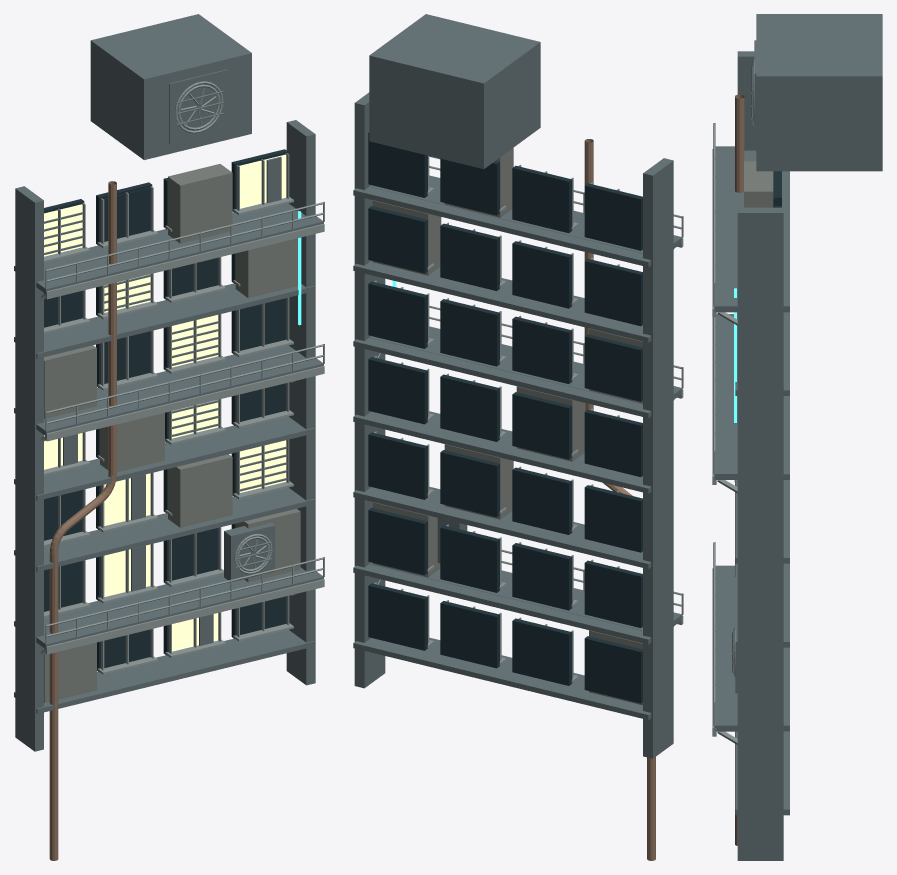
The model's file is tunnel-service-bay.glb.
The picture shows the model from 3 angles, left to right: view 1: azimuth 30°, elevation 25°; view 2: azimuth 150°, elevation 25°; view 3: azimuth 270°, elevation 25°; orthographic projection. The views are drawn at different scales.
Parts seen in each view (by area): view 1: tunnel-service-bay-TunnelArmor, tunnel-service-bay-TunnelEdge, tunnel-service-bay-TunnelConcrete, tunnel-service-bay-TunnelGlass, tunnel-service-bay-TunnelWarm, tunnel-service-bay-TunnelCopper; view 2: tunnel-service-bay-TunnelGlass, tunnel-service-bay-TunnelArmor, tunnel-service-bay-TunnelConcrete, tunnel-service-bay-TunnelEdge, tunnel-service-bay-TunnelCopper; view 3: tunnel-service-bay-TunnelArmor, tunnel-service-bay-TunnelEdge, tunnel-service-bay-TunnelConcrete, tunnel-service-bay-TunnelCopper.
Boxes of the visible parts, x1,y1,x2,y2 form: tunnel-service-bay-TunnelArmor: [14, 14, 323, 751]; tunnel-service-bay-TunnelEdge: [40, 81, 324, 674]; tunnel-service-bay-TunnelConcrete: [44, 164, 300, 702]; tunnel-service-bay-TunnelGlass: [44, 149, 287, 672]; tunnel-service-bay-TunnelWarm: [44, 154, 286, 651]; tunnel-service-bay-TunnelCopper: [49, 181, 116, 860]; tunnel-service-bay-TunnelGlass: [368, 132, 642, 703]; tunnel-service-bay-TunnelArmor: [353, 14, 682, 758]; tunnel-service-bay-TunnelConcrete: [372, 148, 642, 705]; tunnel-service-bay-TunnelEdge: [374, 155, 683, 682]; tunnel-service-bay-TunnelCopper: [584, 139, 655, 860]; tunnel-service-bay-TunnelArmor: [714, 14, 882, 860]; tunnel-service-bay-TunnelEdge: [712, 60, 754, 744]; tunnel-service-bay-TunnelConcrete: [744, 161, 773, 207]; tunnel-service-bay-TunnelCopper: [734, 94, 744, 845].
Size of the model in its own units: 18.2 by 46.5 by 8.1.
